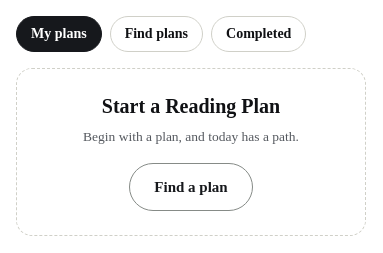
Scenario: Completed › says so in words, on a badge, and shows the whole length
What coordinates should you click on to do the following:
click the button with test id "plans-chip-completed"
I would click on:
 (259, 34)
Its box is [211,16,306,52].
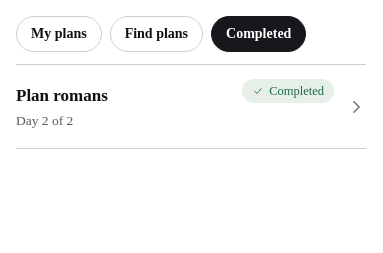
Expected: the element with test id "plan-romans-done" reads "Completed", [269,84,324,98]
Expected: the button with test id "plan-romans" shows "Day 2 of 2", [16,65,366,149]
